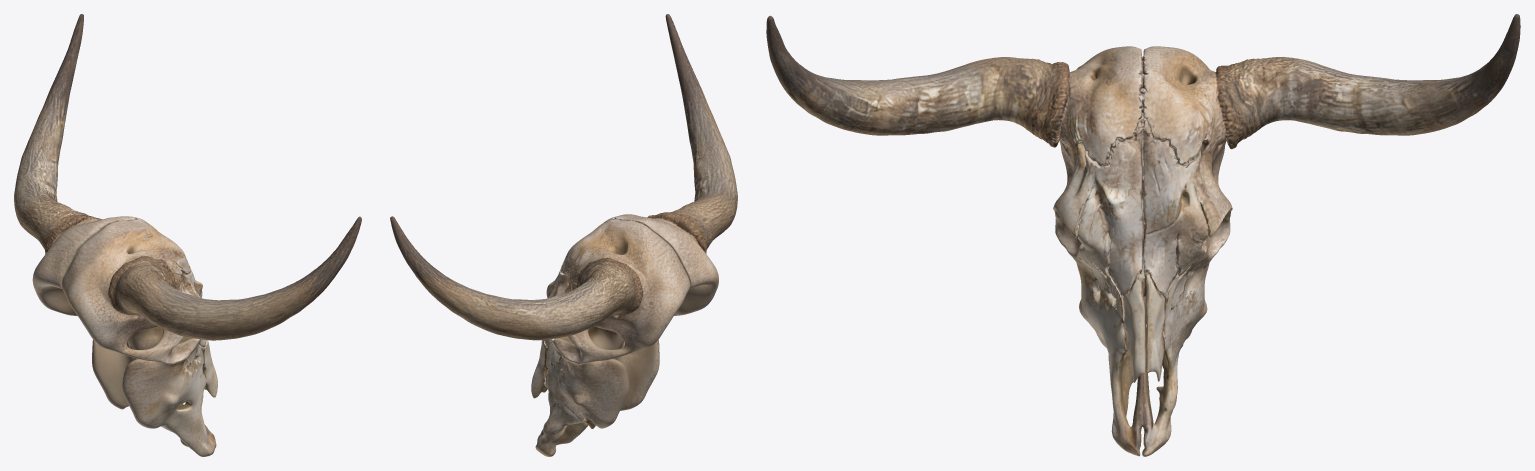
File: skull.glb
The picture shows the model from 3 angles, left to right: view 1: azimuth 30°, elevation 25°; view 2: azimuth 150°, elevation 25°; view 3: azimuth 270°, elevation 25°; orthographic projection. The views are drawn at different scales.
Visible parts, largest first — view 1: tripo_node_716a92ee-a015-49f3-a7d5-6ea01b3fdbe1; view 2: tripo_node_716a92ee-a015-49f3-a7d5-6ea01b3fdbe1; view 3: tripo_node_716a92ee-a015-49f3-a7d5-6ea01b3fdbe1.
Boxes of the visible parts, bbox=[...] form: tripo_node_716a92ee-a015-49f3-a7d5-6ea01b3fdbe1: bbox=[14, 14, 361, 456]; tripo_node_716a92ee-a015-49f3-a7d5-6ea01b3fdbe1: bbox=[390, 14, 737, 456]; tripo_node_716a92ee-a015-49f3-a7d5-6ea01b3fdbe1: bbox=[766, 14, 1520, 456].
Bounding box in the file's own units: 0.3443 × 0.6449 × 0.9797.
Materials: 1 (1 with a texture image).
